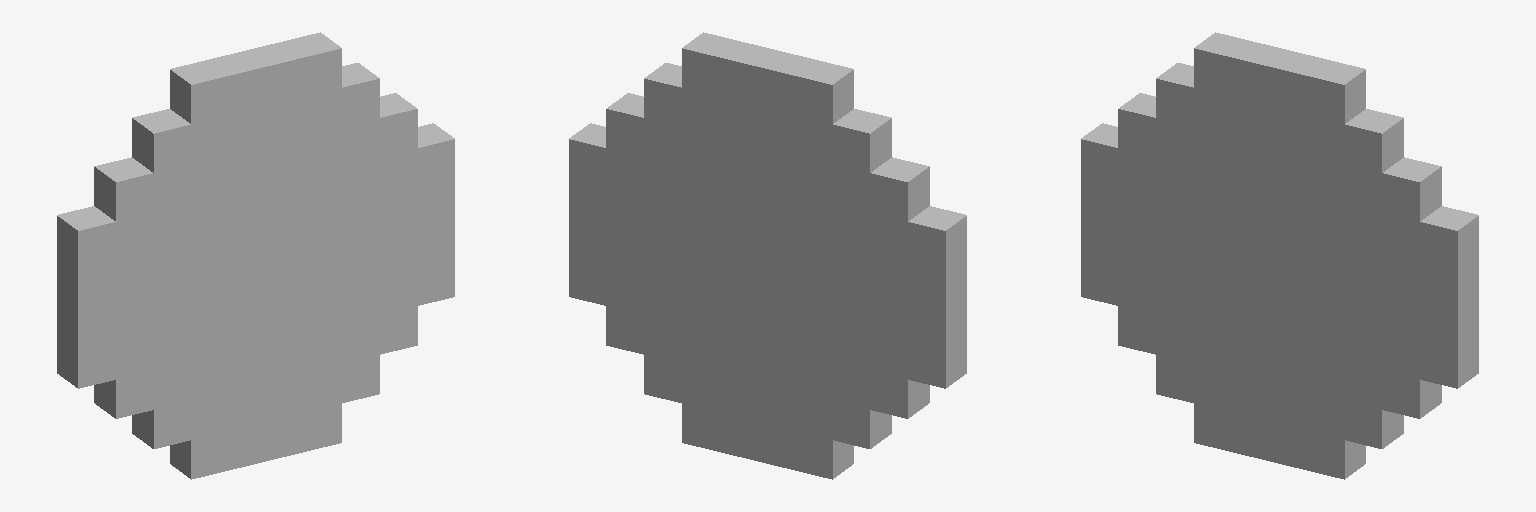
The model's file is Cible V1.obj.
3 renders of one model, left to right at view 1: azimuth 30°, elevation 25°; view 2: azimuth 150°, elevation 25°; view 3: azimuth 330°, elevation 25°, orthographic.
Visible parts, largest first — view 1: object 1; view 2: object 1; view 3: object 1.
Part boxes in pixels (bbox=[...]): object 1: bbox=[57, 32, 454, 479]; object 1: bbox=[569, 32, 966, 479]; object 1: bbox=[1081, 32, 1478, 479].
Size of the model in its own units: 1 by 1 by 0.1.